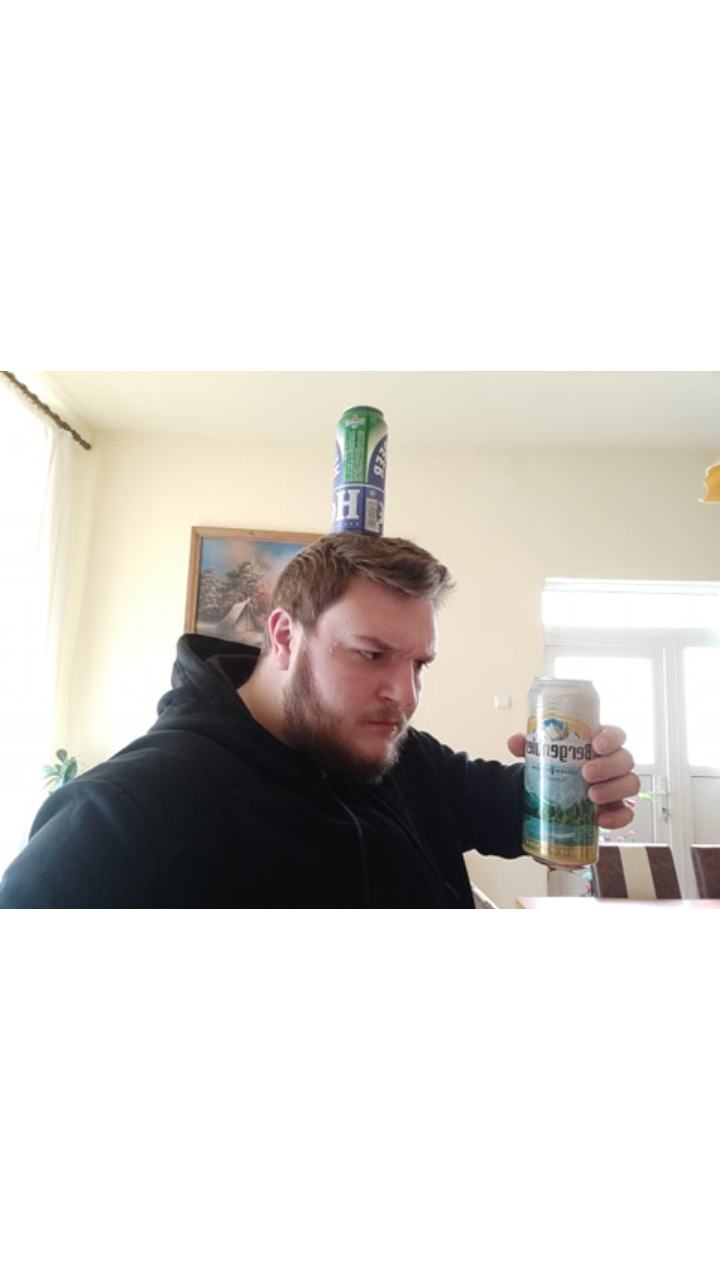Can: (523, 675, 599, 867), (337, 408, 388, 531)
